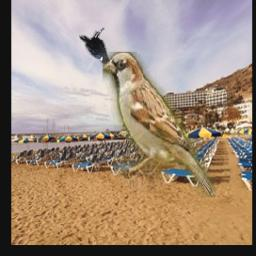Crow: (79, 28, 111, 65)
Sparrow: (103, 52, 216, 197)
